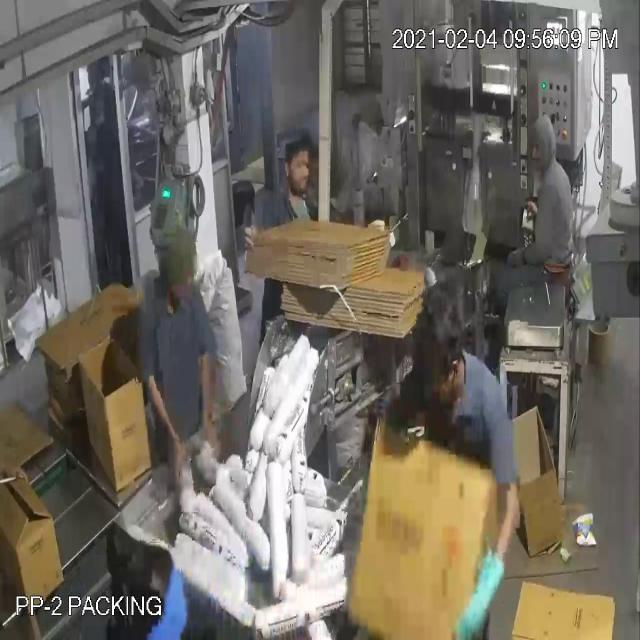gloves: (445, 524, 511, 640)
no-gloves: (139, 356, 195, 494), (185, 334, 227, 491)
